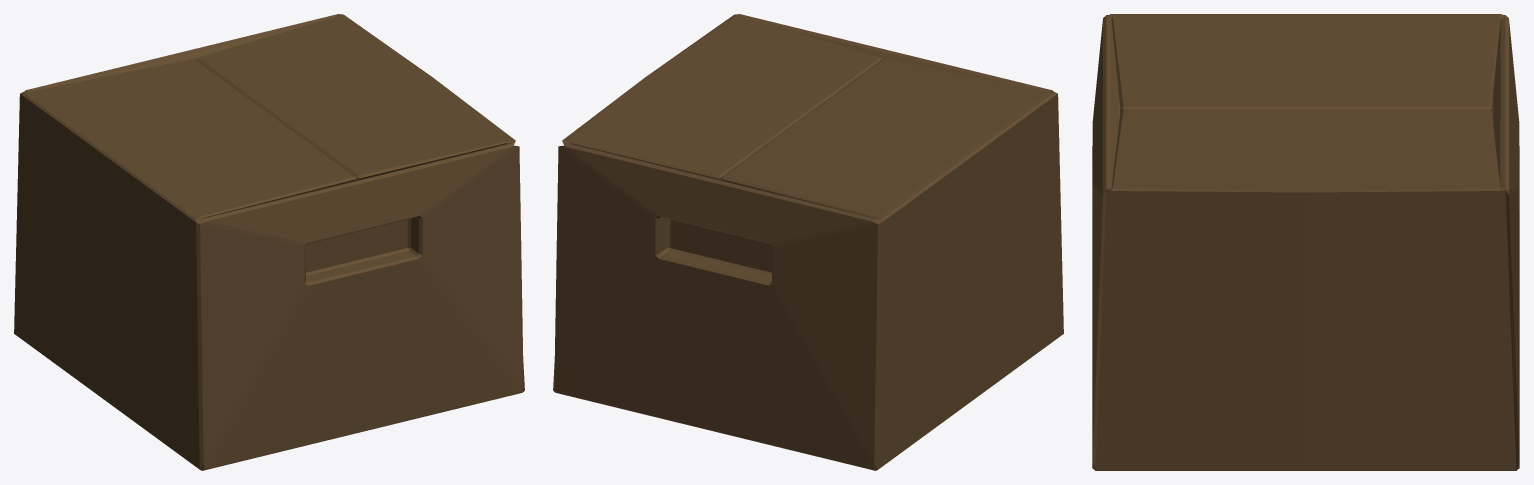
The model's file is Short Box.fbx.
3 views of the same model, side by side, from view 1: azimuth 30°, elevation 25°; view 2: azimuth 150°, elevation 25°; view 3: azimuth 270°, elevation 25° (orthographic). The views are drawn at different scales.
Visible parts, largest first — view 1: Cube.003; view 2: Cube.003; view 3: Cube.003.
Boxes of the visible parts, x1,y1,x2,y2 form: Cube.003: [14, 14, 524, 470]; Cube.003: [553, 14, 1063, 470]; Cube.003: [1092, 14, 1519, 470].
Size of the model in its own units: 245 by 178 by 245.
